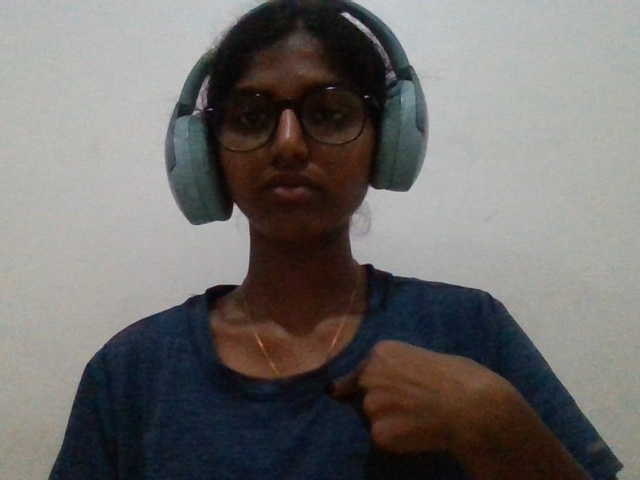Me: (293, 323, 610, 480)
